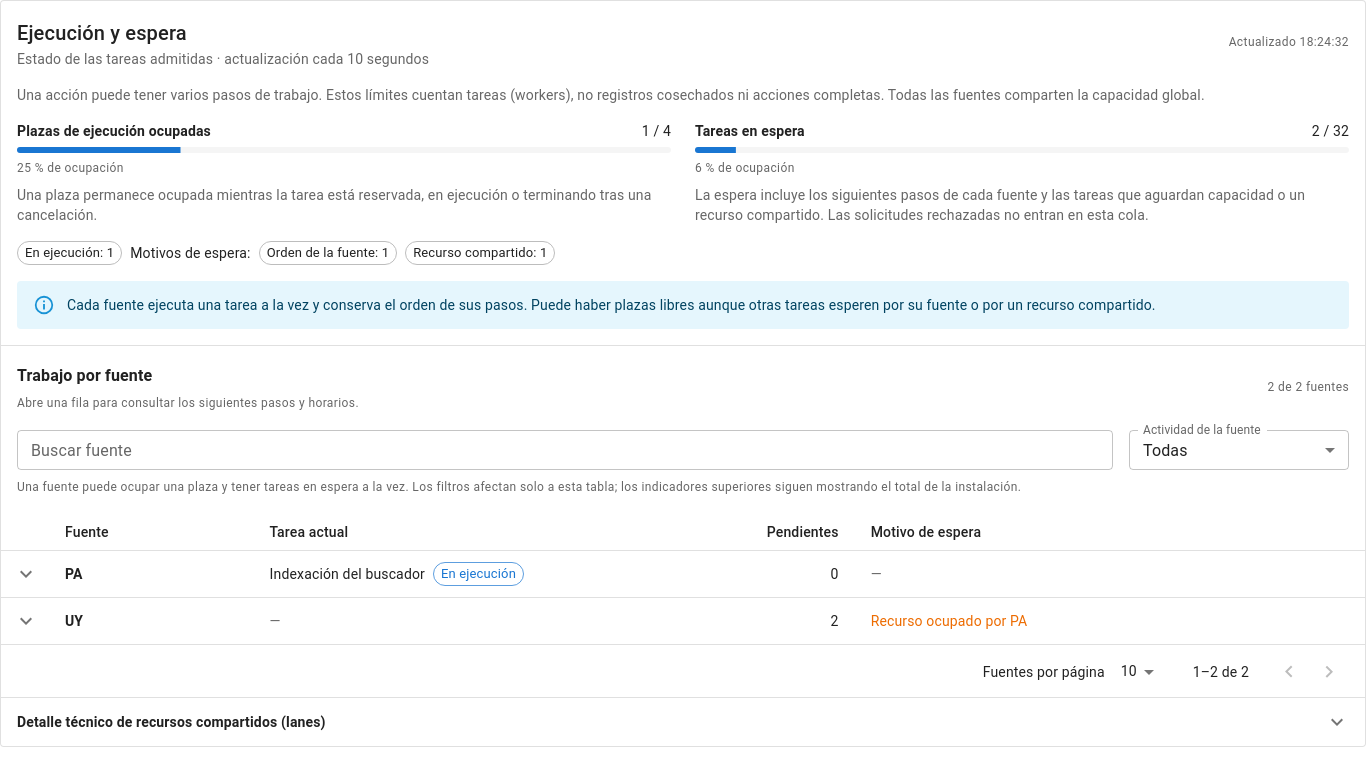
Scenario: Runtime queue presentation › explains the blocking source and puts lane IDs in a closed diagnostic section
Expected: the text "Recurso ocupado por PA" is shown, [871, 613, 1027, 629]
Click the button named "Mostrar detalle de UY": (26, 621) [9, 604, 43, 638]
(page scrolled)
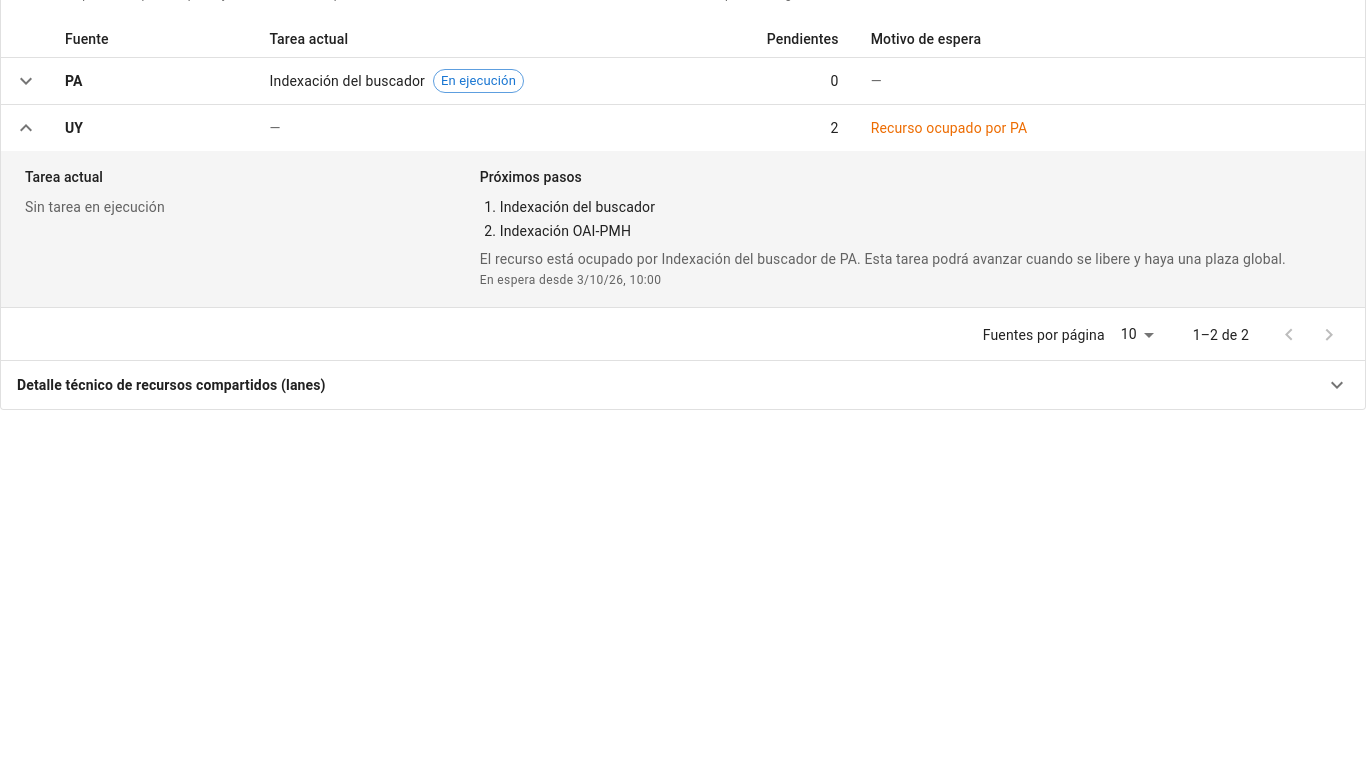
Expected: the text "El recurso está ocupado por Indexación del buscador de PA" is shown, [480, 251, 1286, 267]
Click the button "Detalle técnico de recursos compartidos (lanes)": (171, 385) [1, 361, 1365, 409]
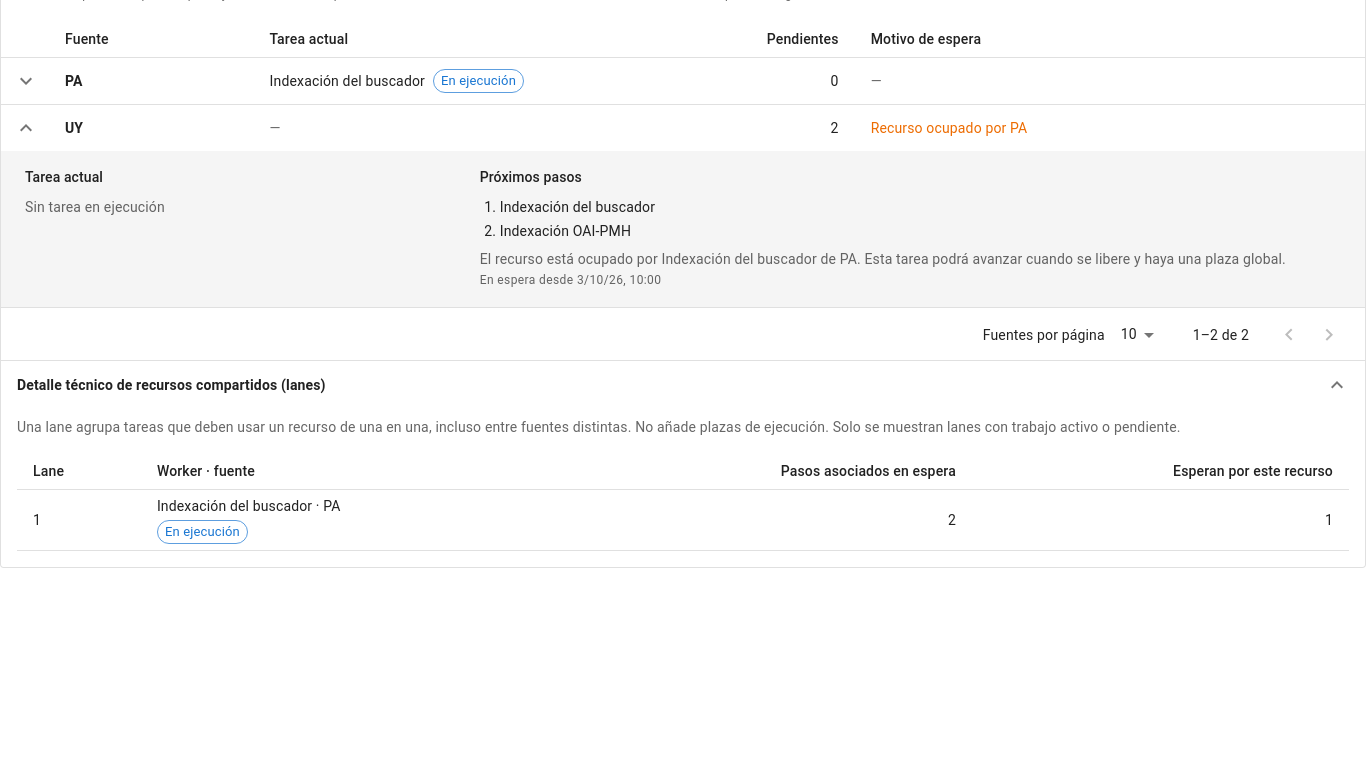
Expected: the cells read "1", "Indexación del buscador · PAEn ejecución", "2", "1", in this order, [17, 489, 141, 550]; [141, 489, 565, 550]; [565, 489, 972, 550]; [972, 489, 1349, 550]
